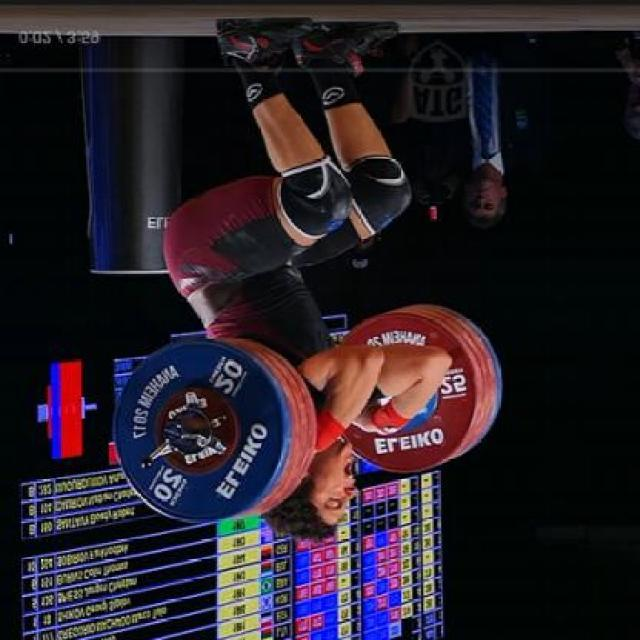Barbell: (158, 418, 191, 452)
